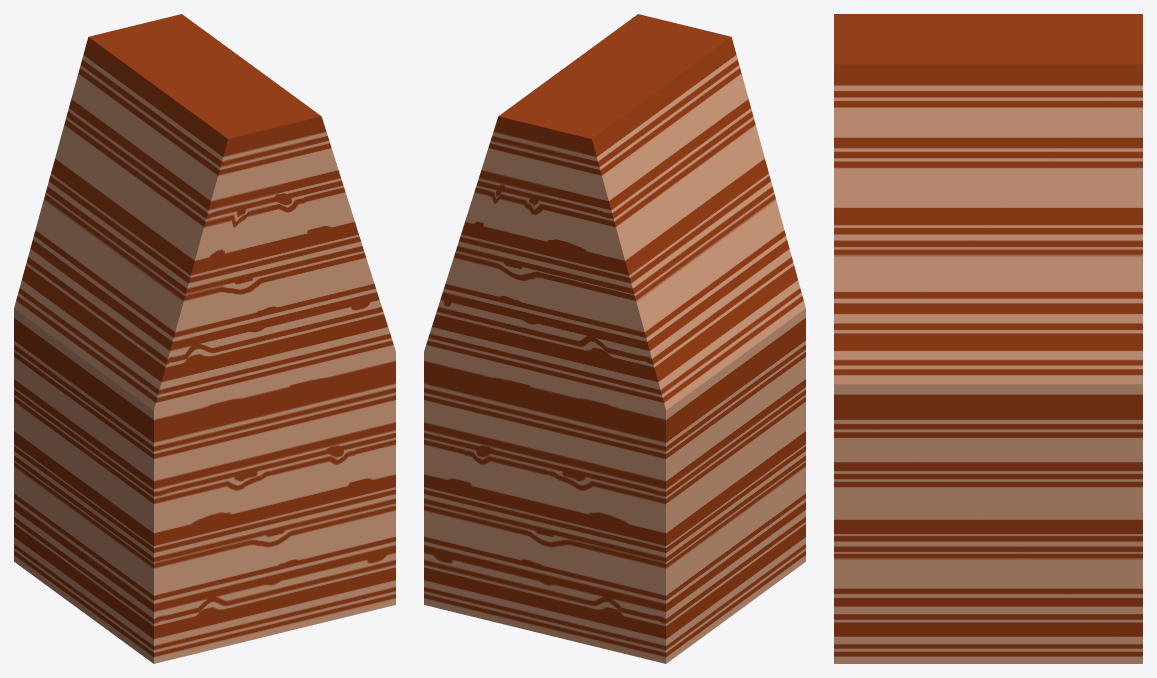
File: sanstoneTILE-4mtallx2m-kindaPOINTYtop.glb
3 views of the same model, side by side, from view 1: azimuth 30°, elevation 25°; view 2: azimuth 150°, elevation 25°; view 3: azimuth 270°, elevation 25° (orthographic). The views are drawn at different scales.
Visible parts, largest first — view 1: Cube.003; view 2: Cube.003; view 3: Cube.003.
Part boxes in pixels (x1=…): Cube.003: x1=14, y1=14, x2=395, y2=663; Cube.003: x1=424, y1=14, x2=805, y2=663; Cube.003: x1=834, y1=14, x2=1142, y2=663.
Bounding box in the file's own units: 2 × 4 × 2.
1 material, 1 textured.
